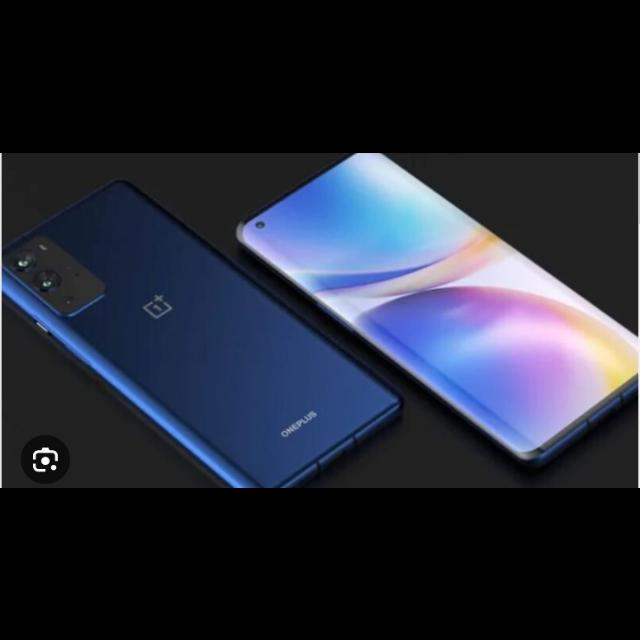Smartphone: (235, 152, 639, 466), (2, 179, 404, 487)
